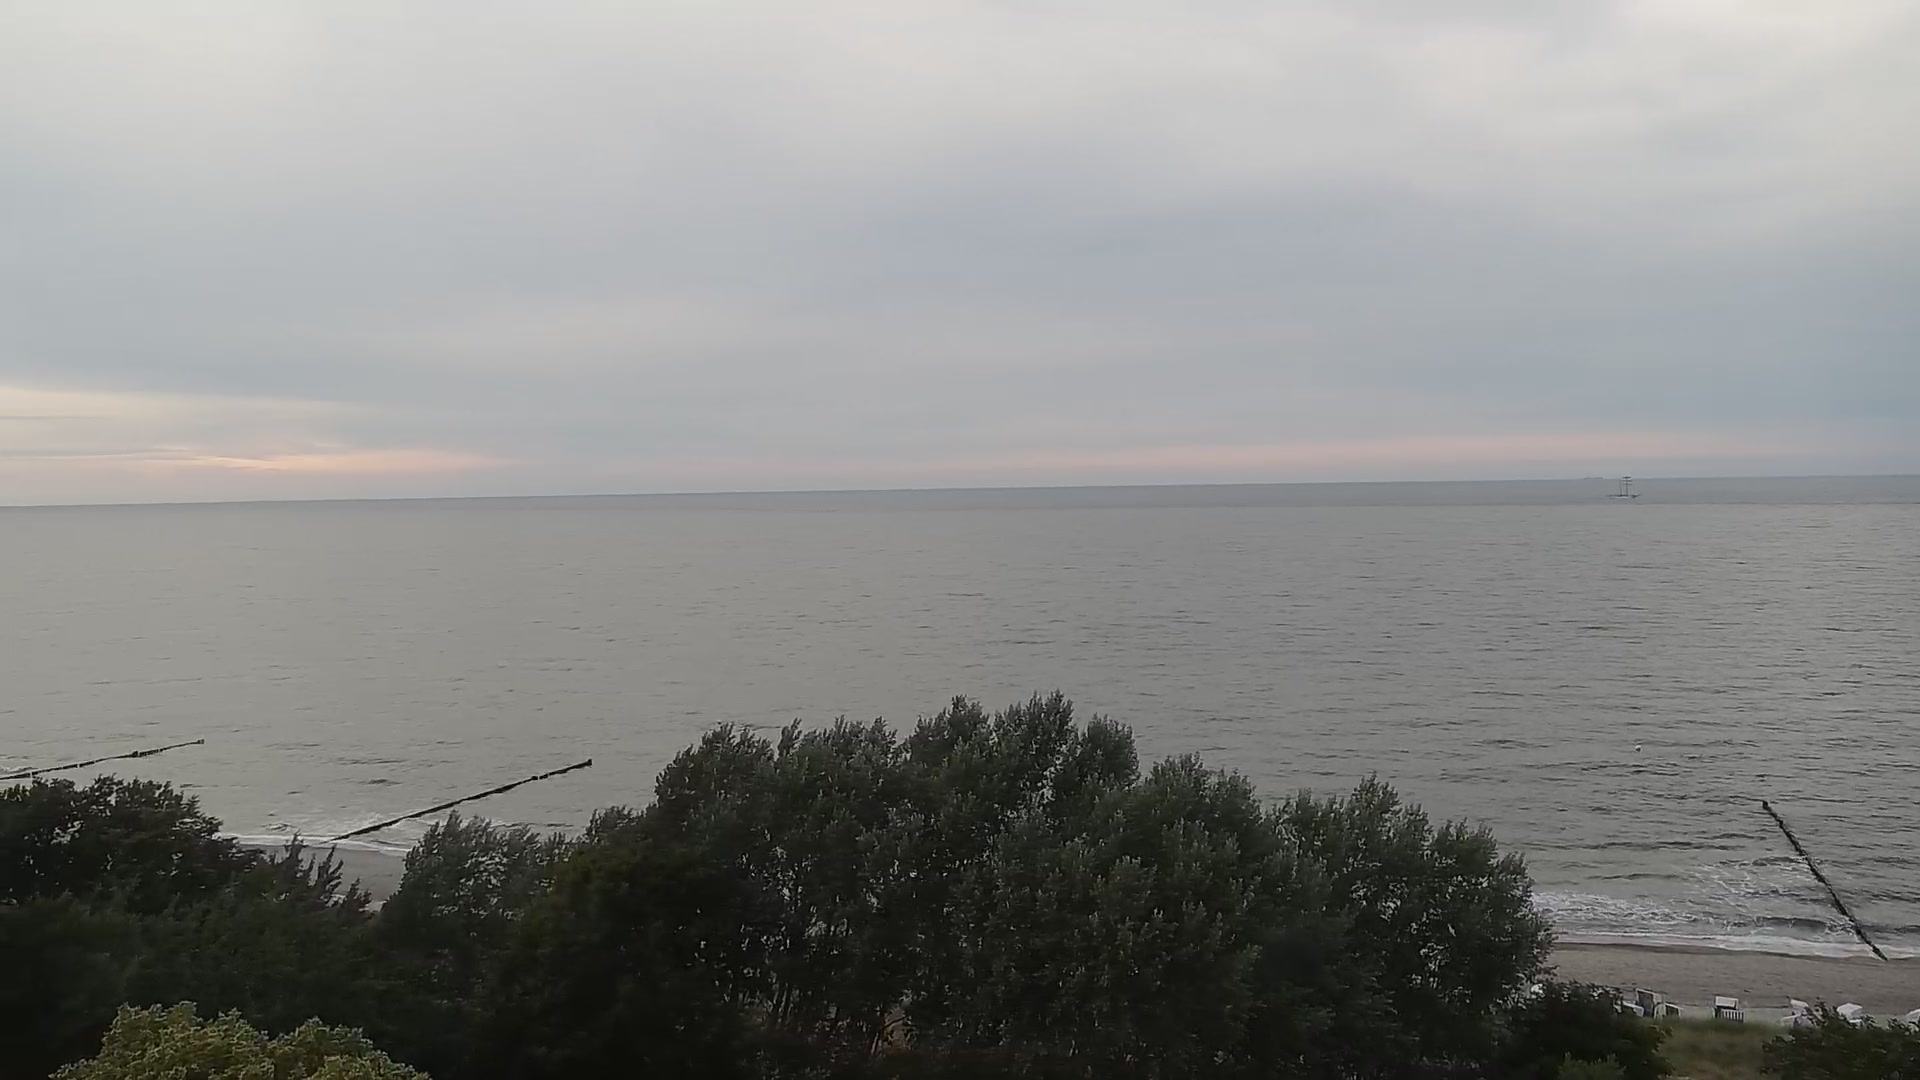sea: (1607, 475, 1640, 498)
